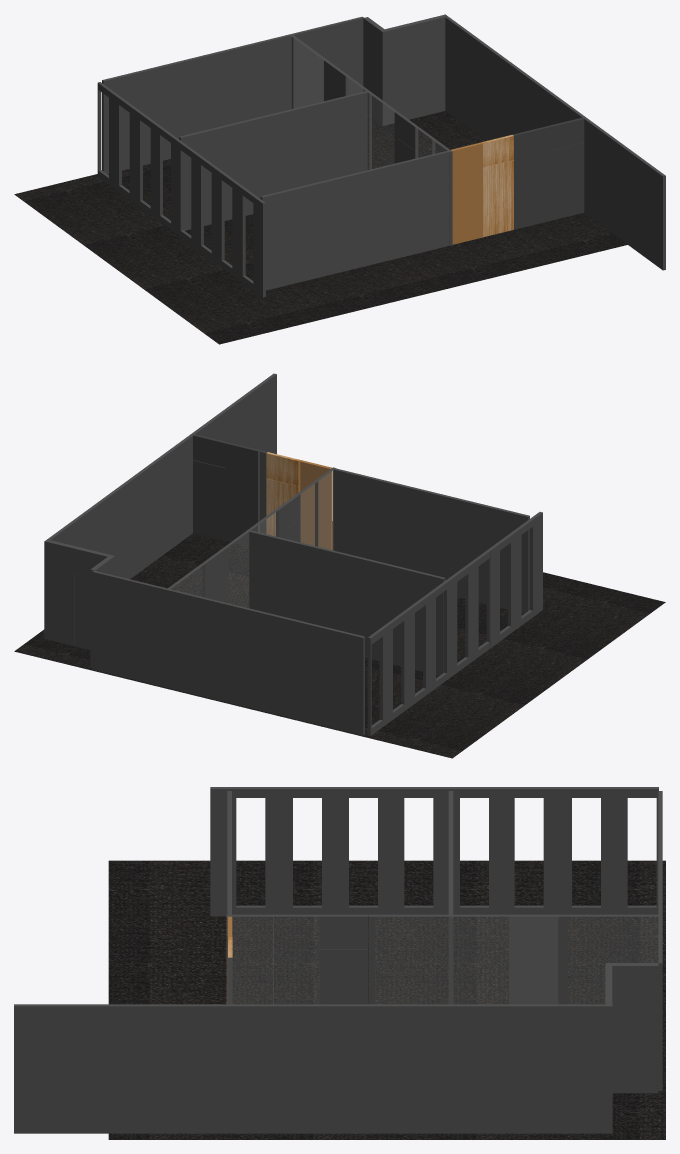
The model's file is roomtest.fbx.
The picture shows the model from 3 angles, top to bottom: view 1: azimuth 30°, elevation 25°; view 2: azimuth 150°, elevation 25°; view 3: azimuth 270°, elevation 25°; orthographic projection. The views are drawn at different scales.
Visible parts, largest first — view 1: floor; view 2: floor; view 3: floor.
Part boxes in pixels (x1,y1,x2,y2): floor: [14, 14, 665, 344]; floor: [14, 373, 665, 758]; floor: [14, 787, 665, 1139].
Size of the model in its own units: 2852 by 608 by 2815.
Materials: 6 (3 with a texture image).
